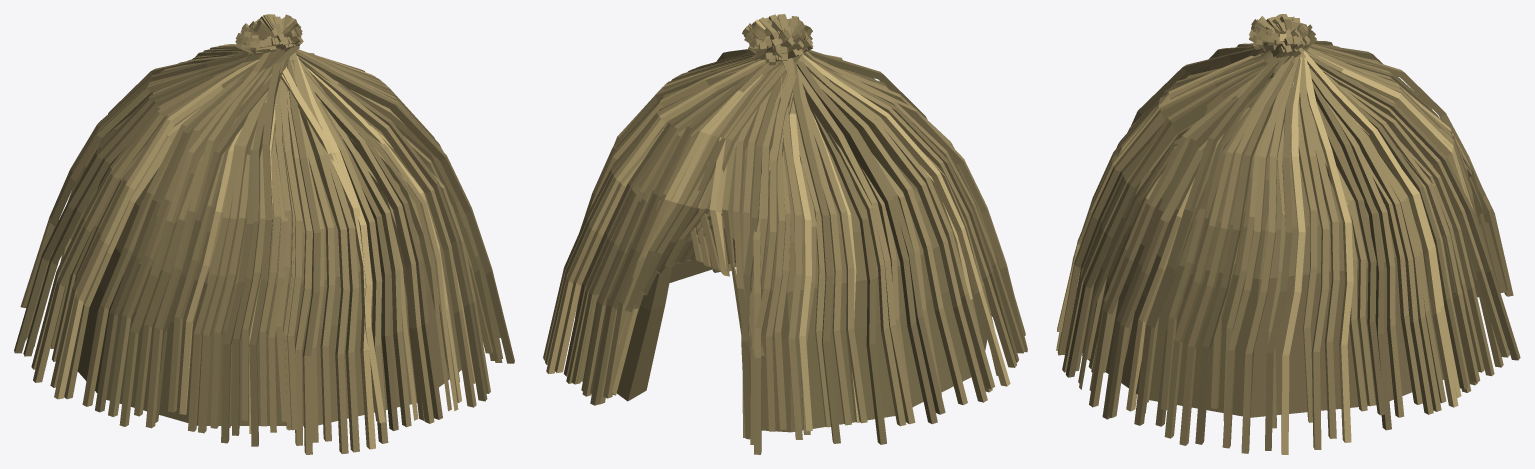
File: hut.fbx
3 renders of one model, left to right at view 1: azimuth 30°, elevation 25°; view 2: azimuth 150°, elevation 25°; view 3: azimuth 270°, elevation 25°, orthographic.
Visible parts, largest first — view 1: strawNoTop, strawSmallTop, dome; view 2: strawNoTop, strawSmallTop, dome; view 3: strawNoTop, dome, strawSmallTop.
Part boxes in pixels (x1,y1,x2,y2): strawNoTop: (20, 44, 513, 454); strawSmallTop: (14, 14, 514, 433); dome: (77, 125, 461, 426); strawNoTop: (543, 49, 1023, 454); strawSmallTop: (544, 14, 1027, 454); dome: (617, 119, 987, 432); strawNoTop: (1056, 40, 1520, 454); dome: (1082, 115, 1478, 417); strawSmallTop: (1057, 14, 1515, 418).
Bounding box in the file's own units: 626 × 481 × 602.
